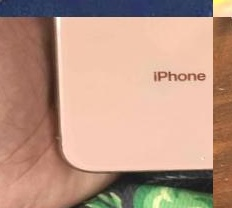scratch: (182, 143, 213, 168)
